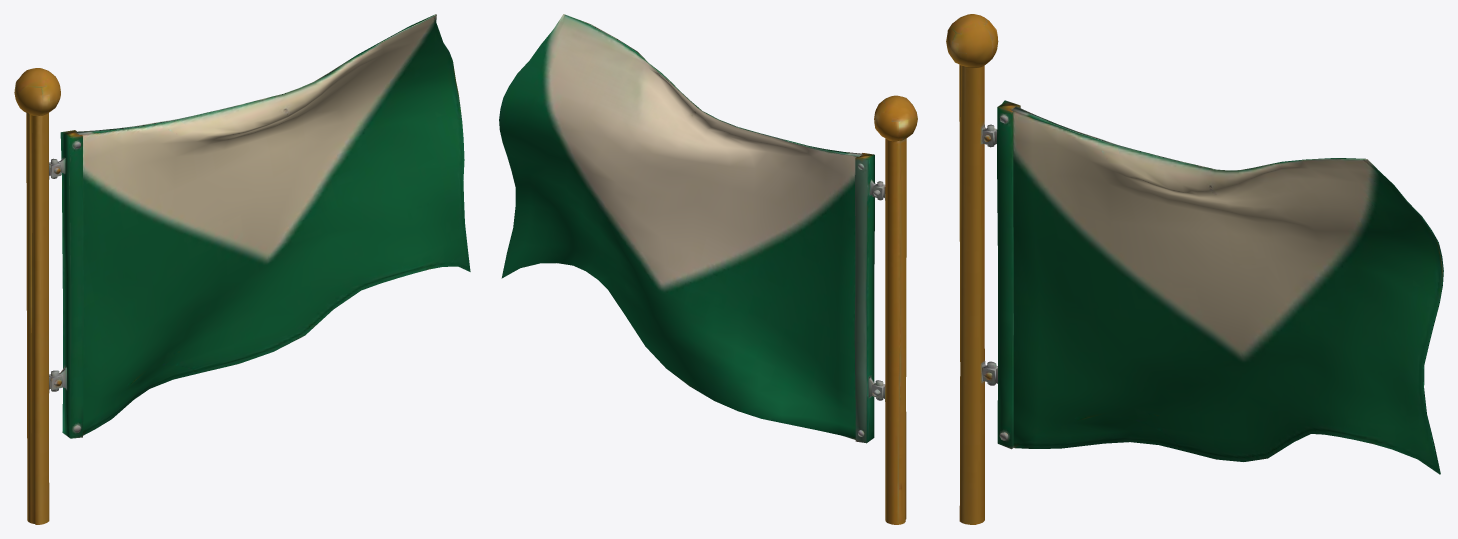
Rendered from club_event.glb.
3 views of the same model, side by side, from view 1: azimuth 30°, elevation 25°; view 2: azimuth 150°, elevation 25°; view 3: azimuth 330°, elevation 25° (orthographic). The views are drawn at different scales.
Size of the model in its own units: 0.9536 by 0.9204 by 0.1538.
1 material, 1 textured.
